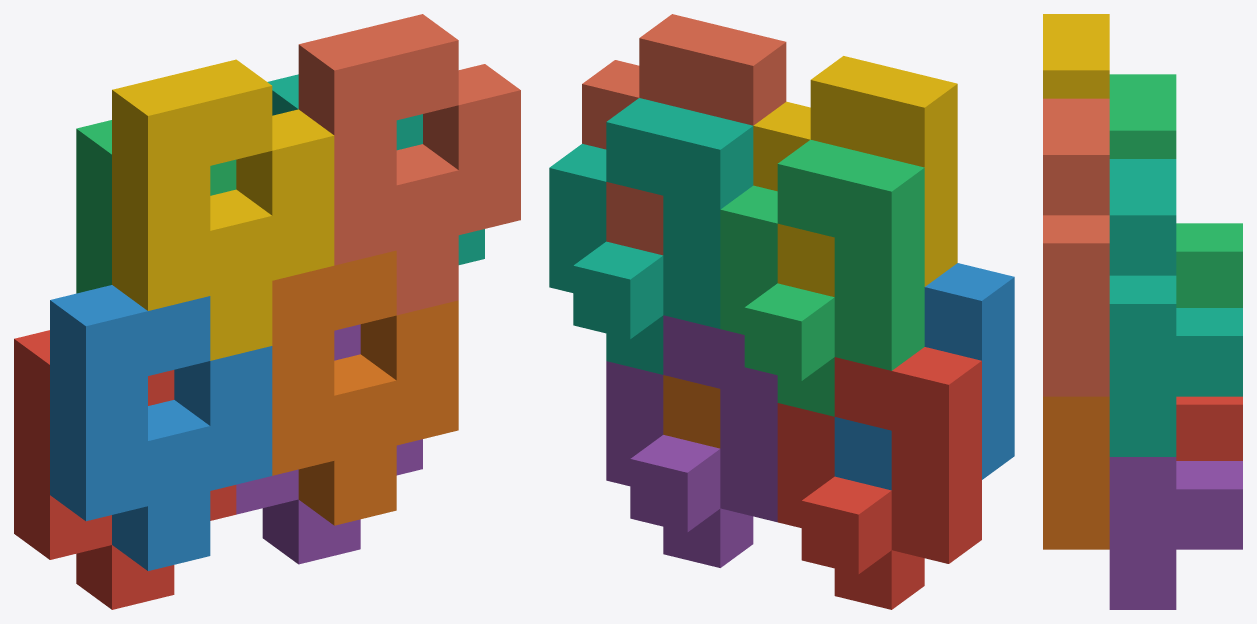
Rendered from tiling.obj.
3 renders of one model, left to right at view 1: azimuth 30°, elevation 25°; view 2: azimuth 150°, elevation 25°; view 3: azimuth 270°, elevation 25°, orthographic. The views are drawn at different scales.
Parts seen in each view (by area): view 1: copy_1_domain_4, copy_1_domain_2, copy_1_domain_8, copy_1_domain_6, copy_1_domain_1, copy_1_domain_5, copy_1_domain_3, copy_1_domain_7; view 2: copy_1_domain_3, copy_1_domain_1, copy_1_domain_7, copy_1_domain_5, copy_1_domain_4, copy_1_domain_8, copy_1_domain_2, copy_1_domain_6; view 3: copy_1_domain_7, copy_1_domain_8, copy_1_domain_5, copy_1_domain_3, copy_1_domain_6, copy_1_domain_4, copy_1_domain_1.
Boxes of the visible parts, <box> form: copy_1_domain_4: <box>112,59,334,360</box>; copy_1_domain_2: <box>50,285,272,570</box>; copy_1_domain_8: <box>298,14,520,315</box>; copy_1_domain_6: <box>272,250,458,525</box>; copy_1_domain_1: <box>14,330,236,609</box>; copy_1_domain_5: <box>236,324,422,564</box>; copy_1_domain_3: <box>76,120,236,293</box>; copy_1_domain_7: <box>267,74,484,264</box>; copy_1_domain_3: <box>720,139,924,416</box>; copy_1_domain_1: <box>777,347,981,609</box>; copy_1_domain_7: <box>549,98,753,374</box>; copy_1_domain_5: <box>606,315,777,567</box>; copy_1_domain_4: <box>753,56,957,296</box>; copy_1_domain_8: <box>582,14,786,255</box>; copy_1_domain_2: <box>834,263,1014,490</box>; copy_1_domain_6: <box>663,375,720,448</box>; copy_1_domain_7: <box>1109,159,1242,456</box>; copy_1_domain_8: <box>1043,98,1109,396</box>; copy_1_domain_5: <box>1109,457,1242,609</box>; copy_1_domain_3: <box>1109,74,1242,307</box>; copy_1_domain_6: <box>1043,396,1109,549</box>; copy_1_domain_4: <box>1043,14,1109,98</box>; copy_1_domain_1: <box>1176,396,1242,460</box>.
Bounding box in the file's own units: 7 × 8 × 3.
